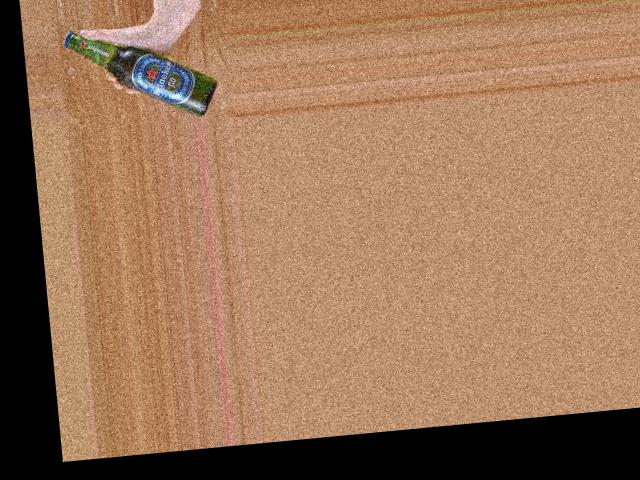beer: (62, 17, 221, 128)
